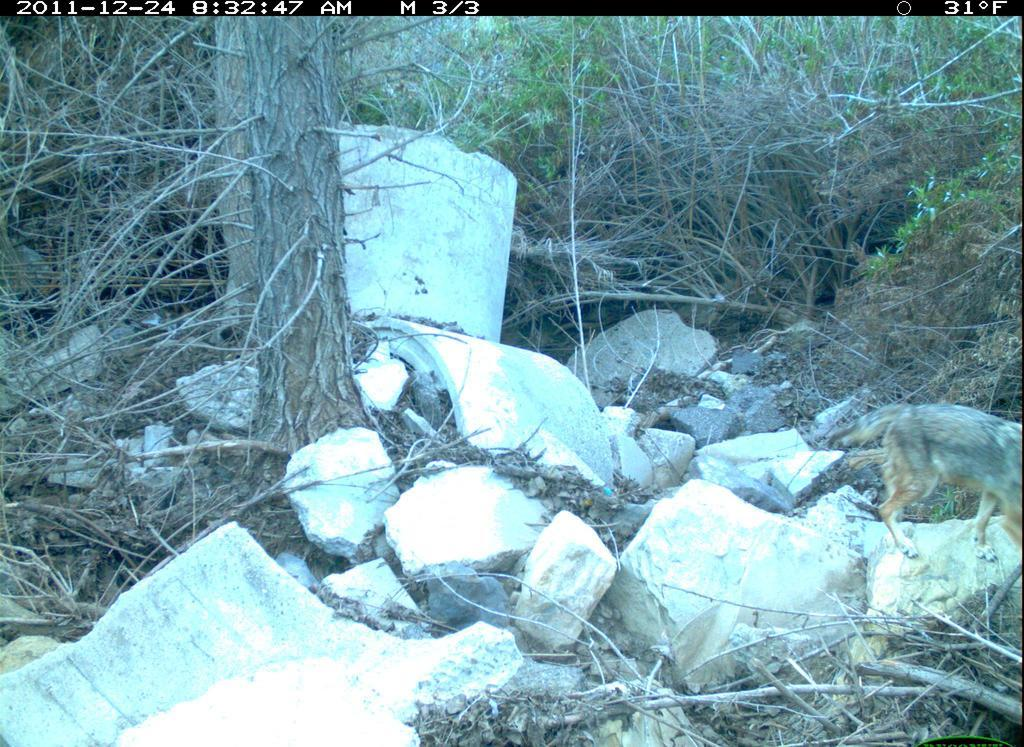coyote: (816, 388, 1022, 573)
